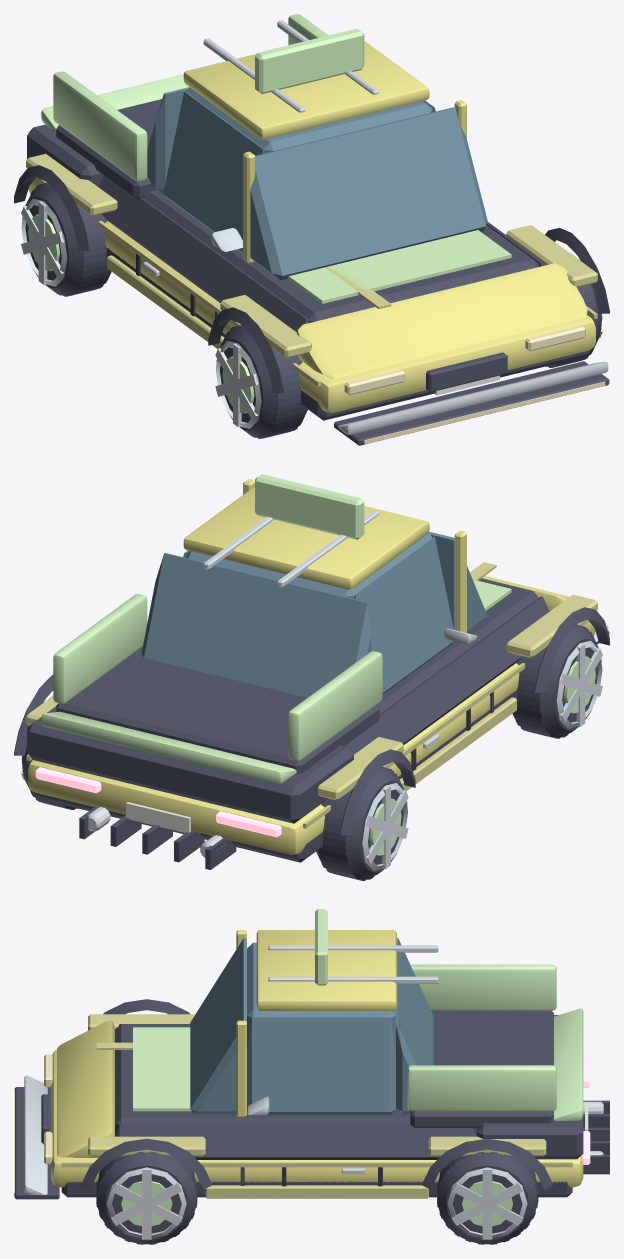
Rendered from crosswalk_cruiser.fbx.
3 views of the same model, one above another, from view 1: azimuth 30°, elevation 25°; view 2: azimuth 150°, elevation 25°; view 3: azimuth 270°, elevation 25° (orthographic). The views are drawn at different scales.
Parts seen in each view (by area): view 1: Glass, Body, Trim, Accent3, Accent, Accent2, Metal, Light3, Wheel_FR, Wheel_RR, Light, Metal2 (+1 smaller); view 2: Trim, Glass, Body, Accent3, Accent, Metal, Light3, Wheel_RR, Wheel_FR, Accent2, Light2, Accent4 (+1 smaller); view 3: Trim, Glass, Body, Accent3, Accent, Metal, Accent2, Wheel_FL, Wheel_RL, Metal2, Light3, Light (+1 smaller).
Part boxes in pixels (x1,y1,x2,y2): Glass: (147, 87, 487, 280); Body: (28, 41, 595, 412); Trim: (14, 99, 609, 445); Accent3: (41, 14, 511, 303); Accent: (26, 153, 597, 386); Accent2: (203, 20, 608, 434); Metal: (21, 198, 602, 428); Light3: (255, 28, 364, 93); Wheel_FR: (216, 325, 307, 438); Wheel_RR: (22, 182, 111, 296); Light: (344, 325, 605, 444); Metal2: (28, 214, 254, 413); Trim: (14, 578, 609, 869); Glass: (141, 531, 487, 697); Body: (28, 479, 595, 854); Accent3: (41, 579, 511, 783); Accent: (26, 562, 597, 828); Metal: (21, 640, 602, 870); Light3: (255, 474, 364, 539); Wheel_RR: (316, 767, 407, 880); Wheel_FR: (512, 624, 601, 738); Accent2: (203, 510, 608, 643); Light2: (35, 767, 281, 837); Accent4: (126, 802, 190, 832); Trim: (14, 999, 609, 1199); Glass: (190, 938, 433, 1114); Body: (51, 930, 583, 1187); Accent3: (133, 964, 583, 1120); Accent: (61, 1014, 572, 1198); Metal: (107, 1101, 603, 1239); Accent2: (24, 945, 438, 1194); Wheel_FL: (96, 1152, 197, 1244); Wheel_RL: (437, 1152, 538, 1244); Metal2: (121, 1181, 512, 1226); Light3: (315, 909, 327, 985); Light: (14, 1054, 52, 1196).
Bounding box in the file's own units: 3.3 × 2.55 × 5.6.
